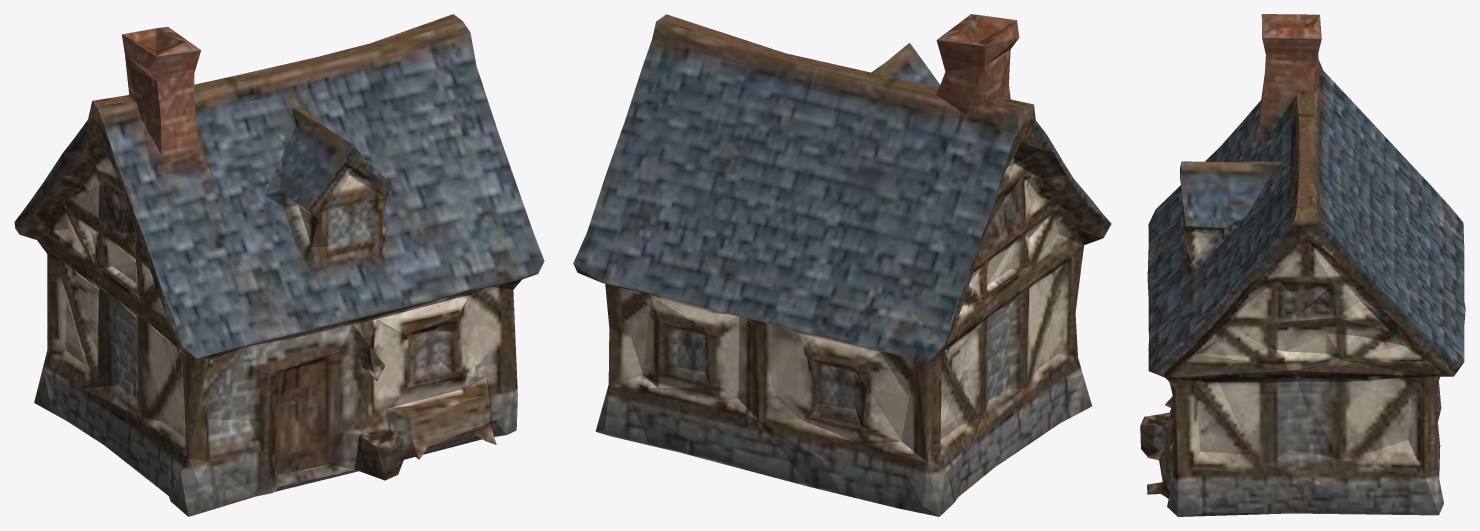
Rendered from house_peasant_b_lod3.glb.
3 views of the same model, side by side, from view 1: azimuth 30°, elevation 25°; view 2: azimuth 150°, elevation 25°; view 3: azimuth 270°, elevation 25° (orthographic). The views are drawn at different scales.
Parts seen in each view (by area): view 1: lod; view 2: lod; view 3: lod.
Part boxes in pixels (box(x1,y1,x2,y2)): lod: box(14, 14, 544, 516); lod: box(573, 14, 1111, 516); lod: box(1140, 14, 1465, 516).
Size of the model in its own units: 1.7 by 1.83 by 1.46.
Materials: 1 (1 with a texture image).
